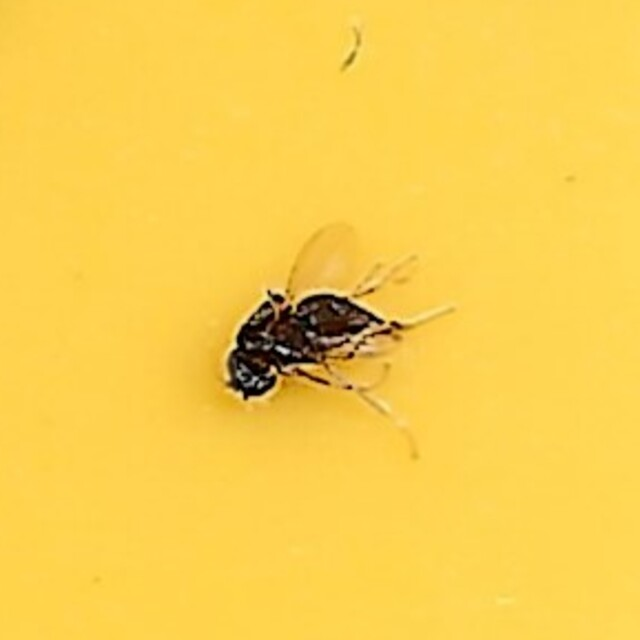Brachycera: (221, 220, 419, 420)
